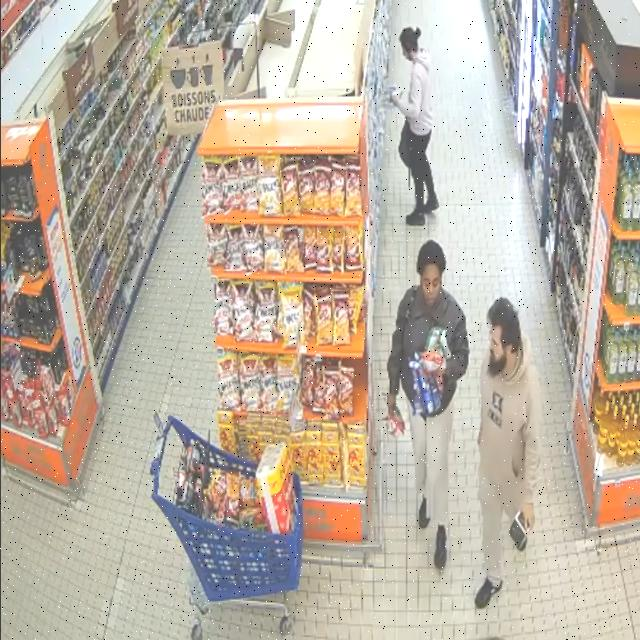article: (409, 351, 442, 415), (409, 360, 425, 416), (509, 511, 530, 551), (418, 351, 447, 372), (382, 417, 405, 439), (434, 331, 451, 359), (424, 327, 443, 352), (391, 403, 406, 430), (384, 85, 403, 102)
bags: (399, 121, 410, 186)
hands: (521, 503, 534, 530), (388, 395, 396, 415), (391, 91, 401, 106), (478, 427, 482, 446)
person: (388, 240, 469, 568), (476, 299, 541, 608), (392, 28, 438, 225)
